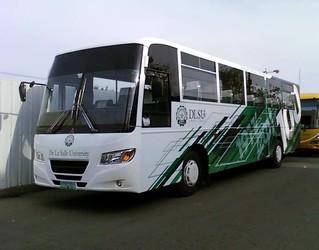bus: (28, 35, 303, 198)
